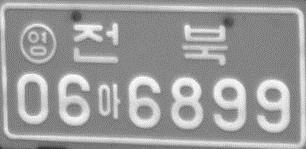0: (15, 73, 49, 125)
6: (126, 75, 161, 129), (56, 74, 91, 127)
8: (168, 76, 203, 130)
9: (211, 78, 248, 131), (255, 78, 291, 132)
아: (97, 82, 121, 120)
영: (19, 21, 56, 64)
전북_D: (72, 23, 228, 66)
